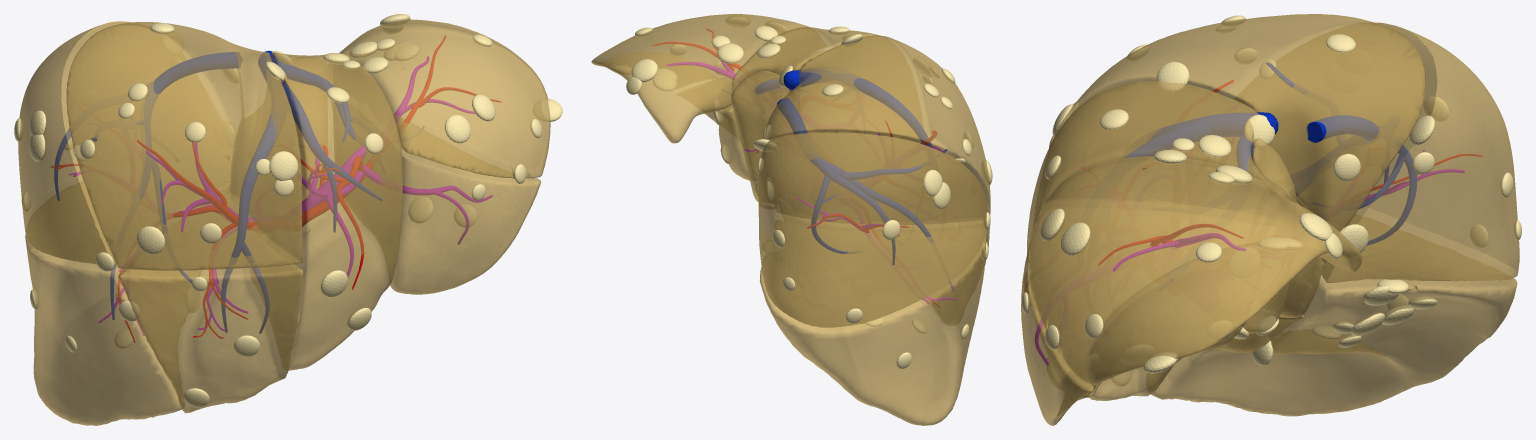
The model's file is liver-fatty-inside.glb.
3 views of the same model, side by side, from view 1: azimuth 30°, elevation 25°; view 2: azimuth 150°, elevation 25°; view 3: azimuth 270°, elevation 25° (orthographic). The views are drawn at different scales.
Parts seen in each view (by area): view 1: group, liver-fatty-add_0; view 2: group, liver-fatty-add_0; view 3: group, liver-fatty-add_0.
Part boxes in pixels (x1,y1,x2,y2): group: (18, 19, 550, 425); liver-fatty-add_0: (14, 14, 562, 407); group: (591, 14, 990, 425); liver-fatty-add_0: (611, 17, 992, 368); group: (1021, 14, 1519, 425); liver-fatty-add_0: (1021, 15, 1521, 385).
Bounding box in the file's own units: 0.2136 × 0.1592 × 0.1629.
